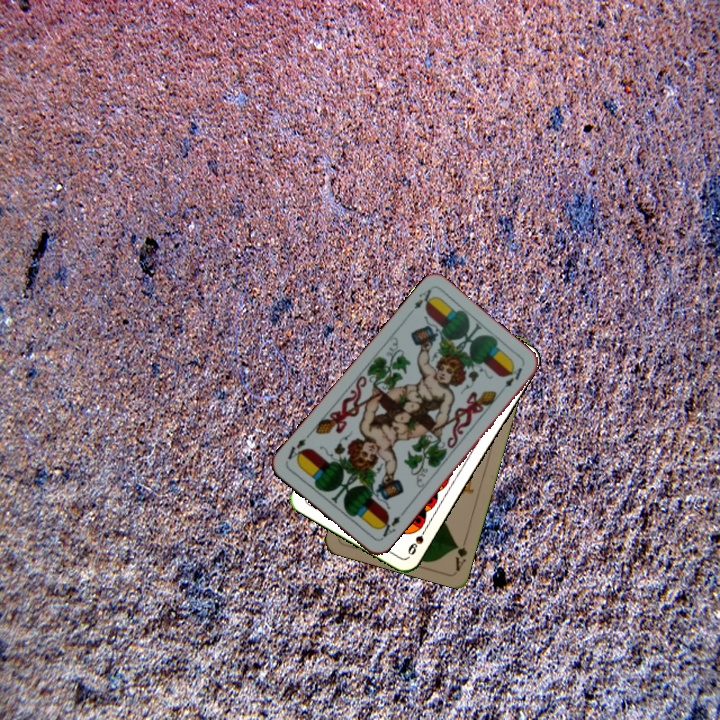EA: (375, 508, 407, 542), (405, 285, 437, 319)
GA: (451, 532, 470, 573)
S9: (404, 521, 431, 558)
